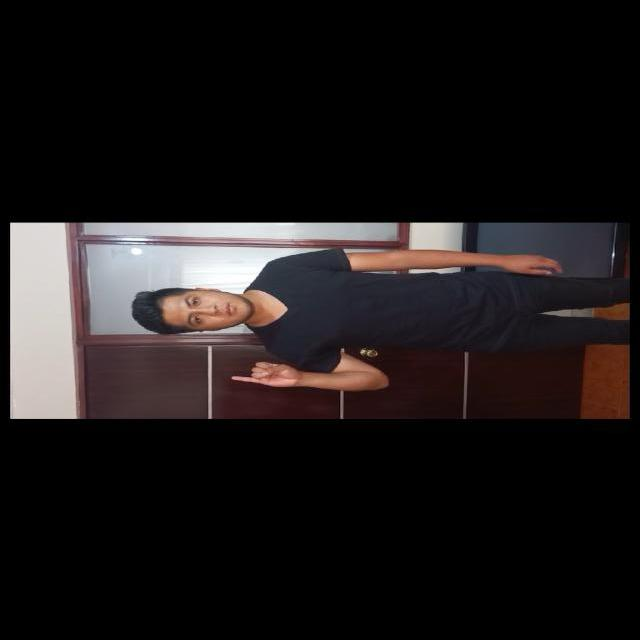I: (224, 355, 314, 393)
